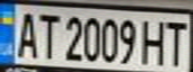0: (81, 12, 103, 63), (100, 15, 121, 64)
2: (60, 11, 84, 63)
9: (118, 15, 142, 64)
A: (9, 8, 42, 60)
H: (139, 16, 172, 66)
T: (160, 17, 193, 68), (33, 9, 60, 61)
